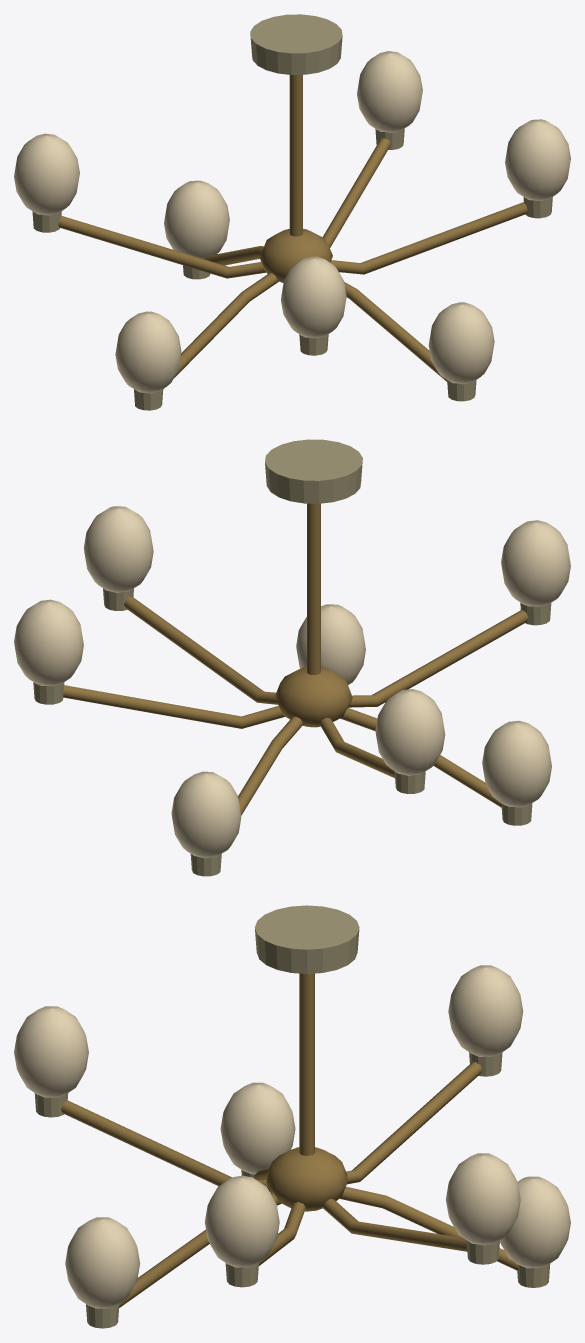
File: lamp.glb
3 views of the same model, one above another, from view 1: azimuth 30°, elevation 25°; view 2: azimuth 150°, elevation 25°; view 3: azimuth 270°, elevation 25° (orthographic). The views are drawn at different scales.
Visible parts, largest first — view 1: FP218_lamp; view 2: FP218_lamp; view 3: FP218_lamp.
Part boxes in pixels (x1=…): FP218_lamp: x1=14, y1=14, x2=570, y2=410; FP218_lamp: x1=14, y1=439, x2=570, y2=876; FP218_lamp: x1=14, y1=905, x2=570, y2=1328.
Size of the model in its own units: 0.8869 by 0.603 by 0.8613.
